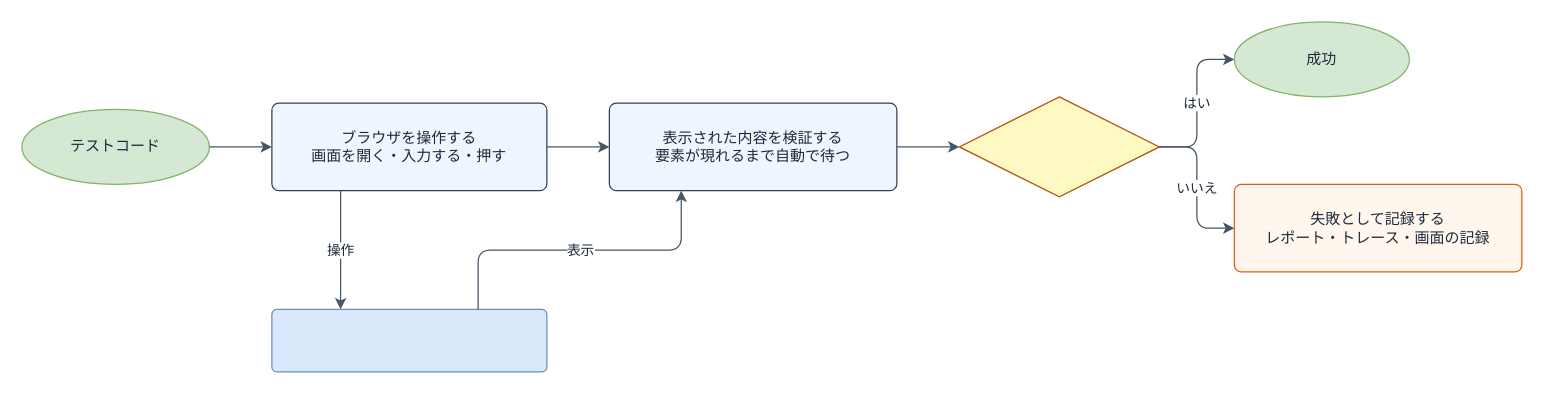
The diagram is 1544 pixels wide and 394 high, and some of its shapes have lost their labels. Here are the shapes that lost their labels. From the top down, the centre of each, then its label:
the point at 1058,146: 期待どおり？
the point at 409,340: BookFlow の画面
